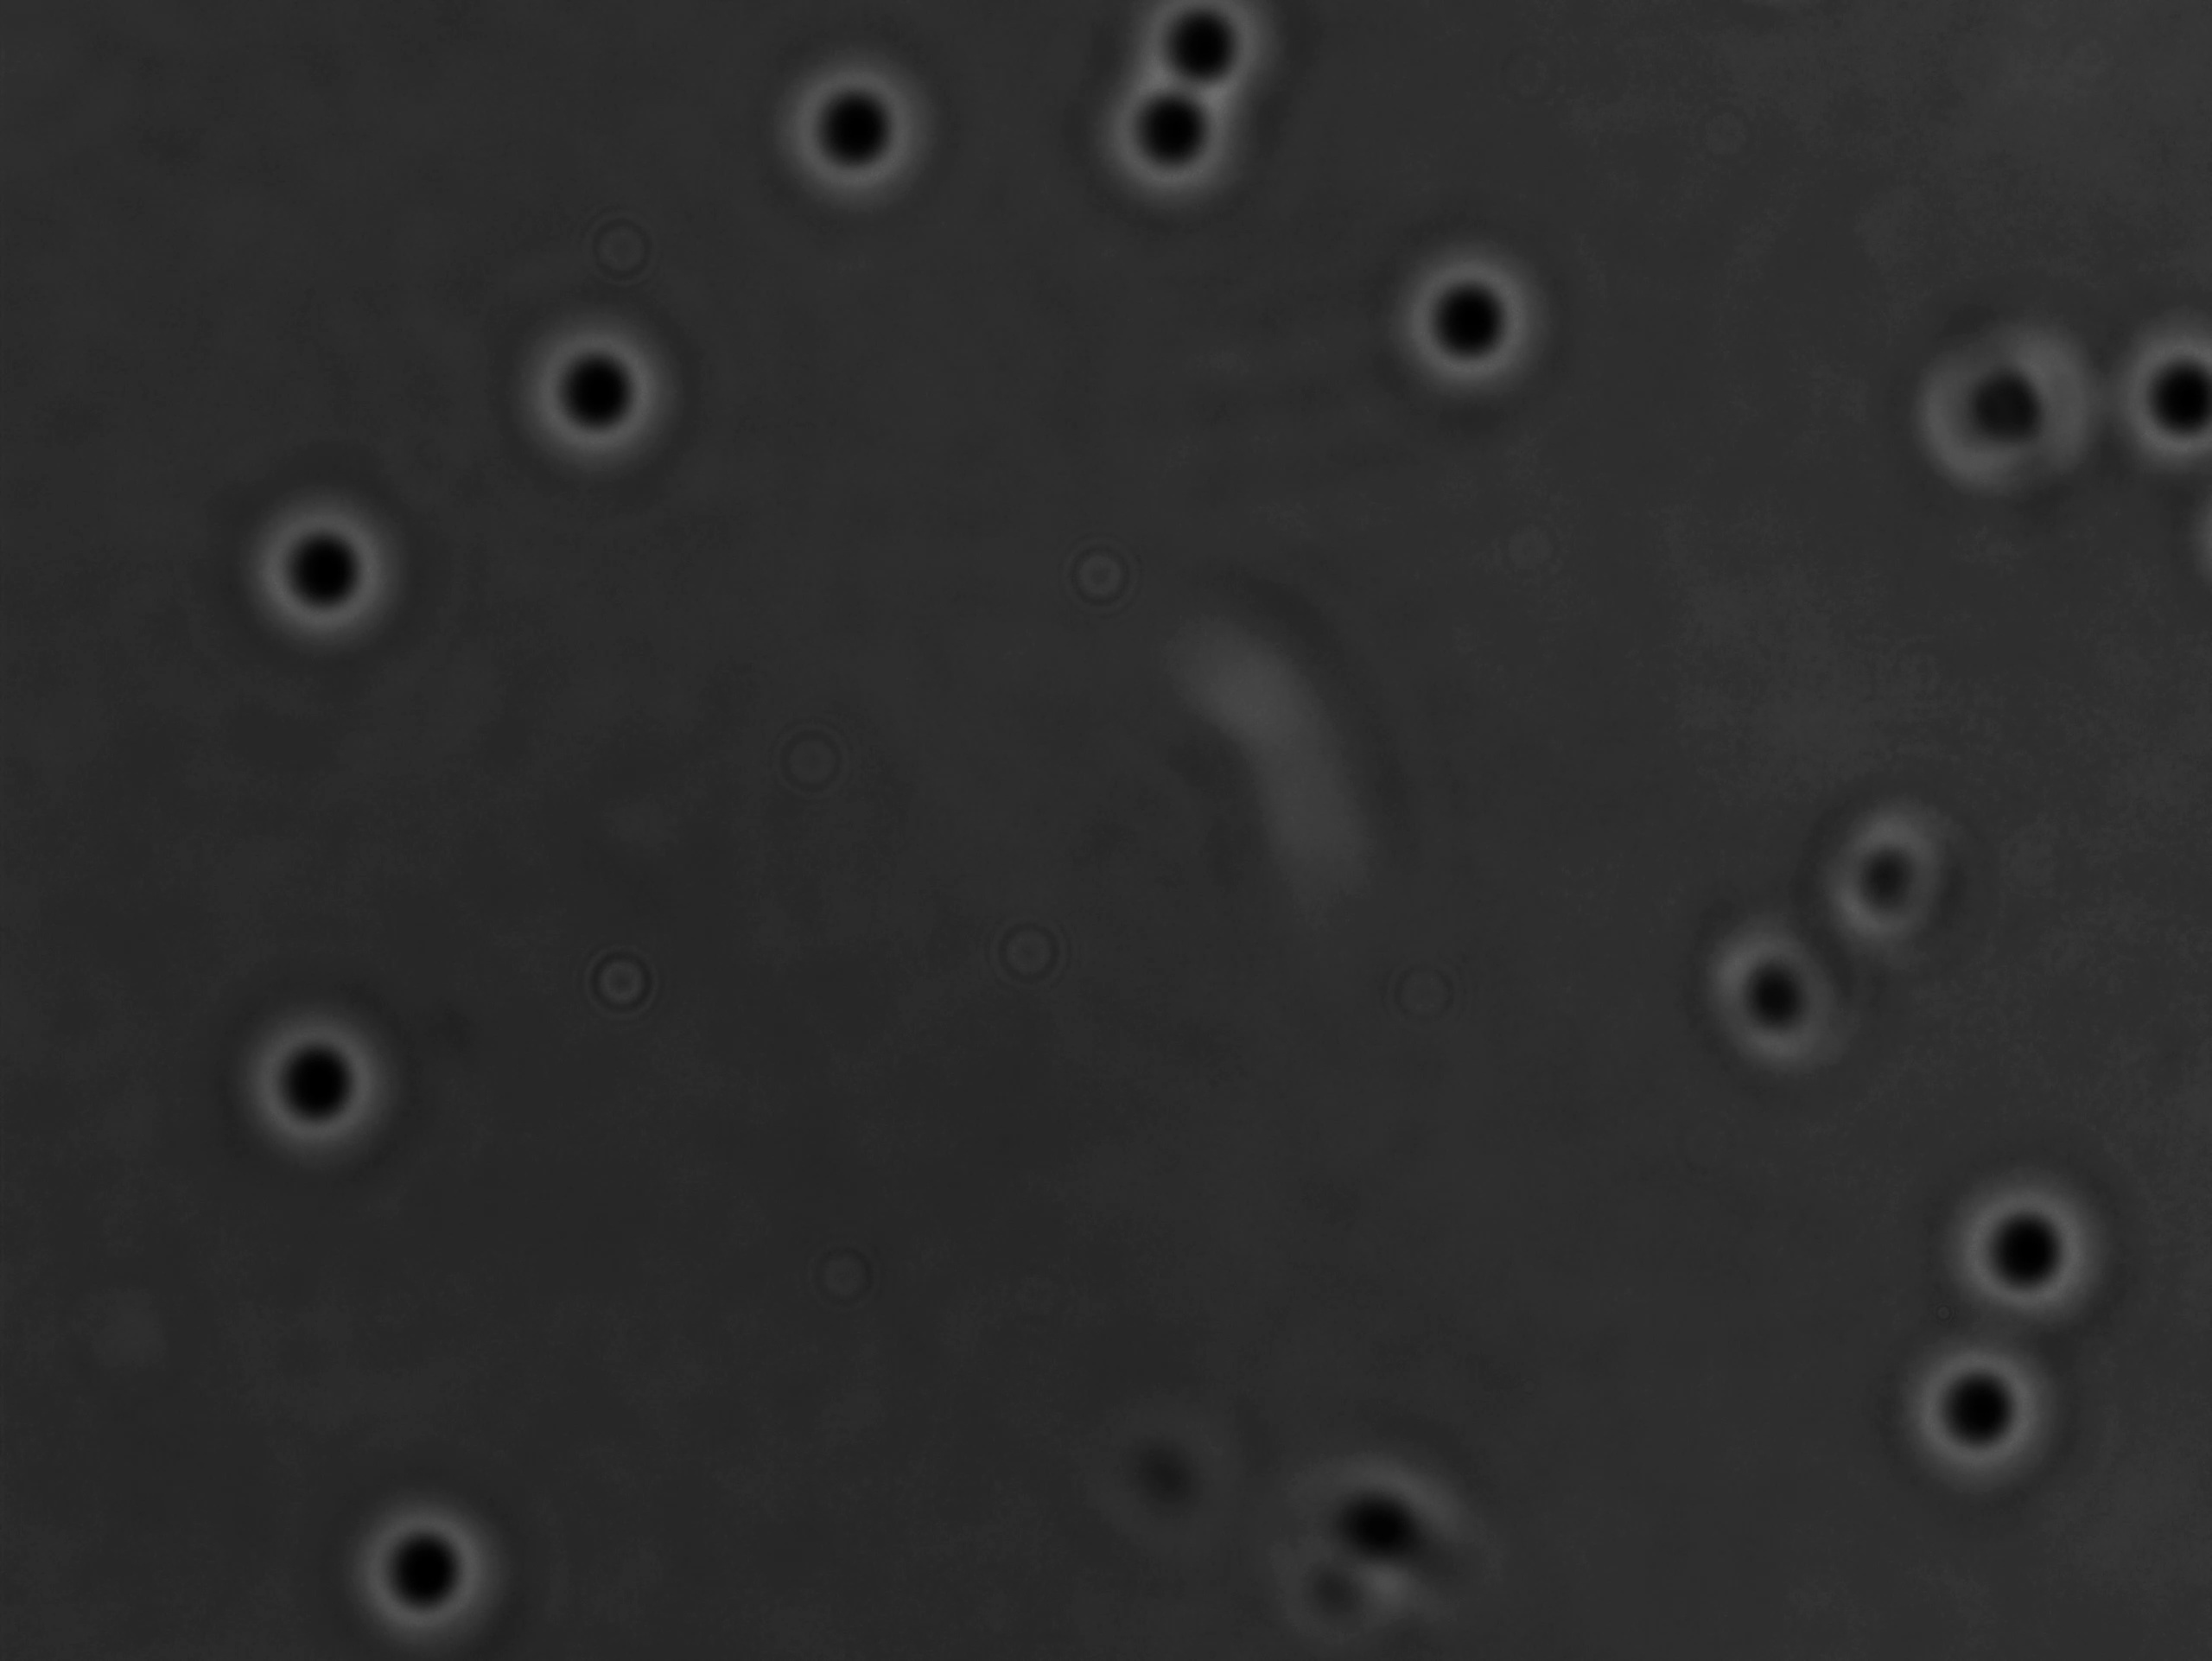depth:-80: (1685, 893, 1898, 1080), (1943, 1164, 2144, 1359), (1924, 314, 2116, 509), (515, 293, 701, 487), (223, 982, 413, 1165), (764, 45, 952, 227), (237, 483, 426, 663), (1884, 1323, 2076, 1499), (331, 1478, 520, 1651), (1076, 63, 1253, 234), (1380, 232, 1558, 400)
